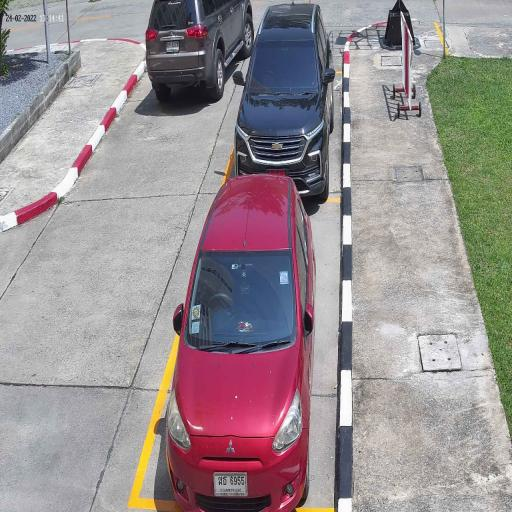car: (163, 173, 318, 512), (233, 0, 335, 201), (145, 0, 255, 102)
